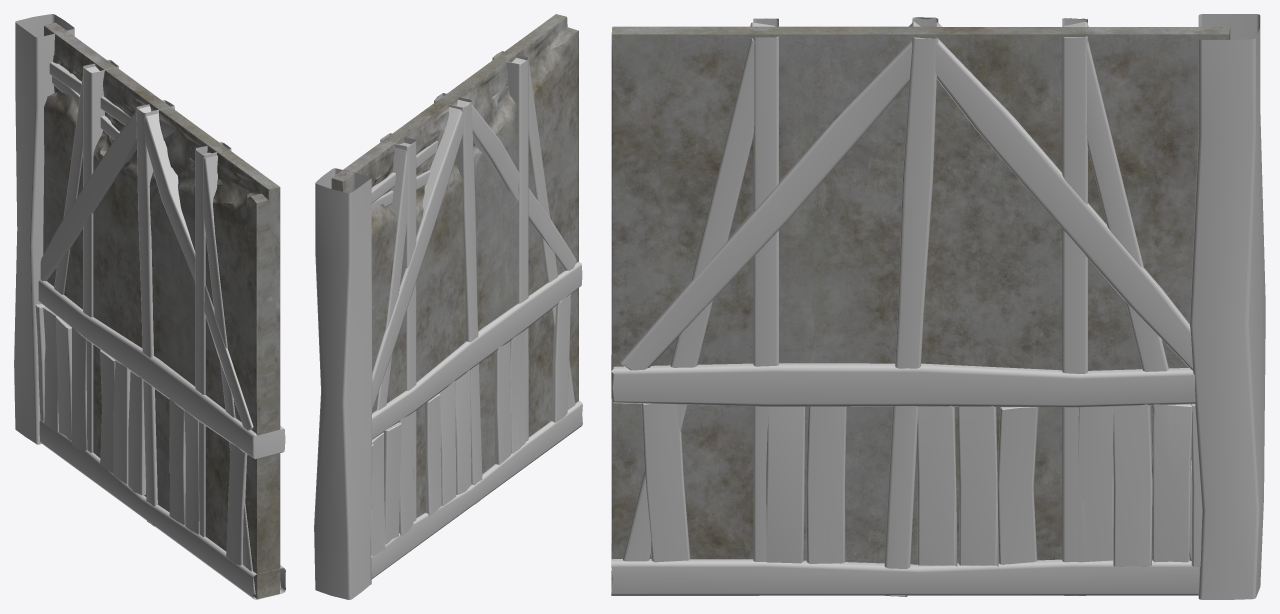
File: SM_Wall30.fbx
3 views of the same model, side by side, from view 1: azimuth 30°, elevation 25°; view 2: azimuth 150°, elevation 25°; view 3: azimuth 270°, elevation 25° (orthographic). The views are drawn at different scales.
Parts seen in each view (by area): view 1: SM_Wall30_LOD0; view 2: SM_Wall30_LOD0; view 3: SM_Wall30_LOD0.
Part boxes in pixels (left/top/right/bottom): SM_Wall30_LOD0: left=14, top=14, right=285, bottom=599; SM_Wall30_LOD0: left=314, top=14, right=582, bottom=599; SM_Wall30_LOD0: left=611, top=14, right=1265, bottom=599.
Bounding box in the file's own units: 32.22 × 318 × 300.
